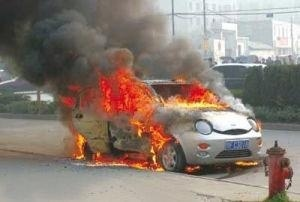fire: (64, 61, 243, 173)
